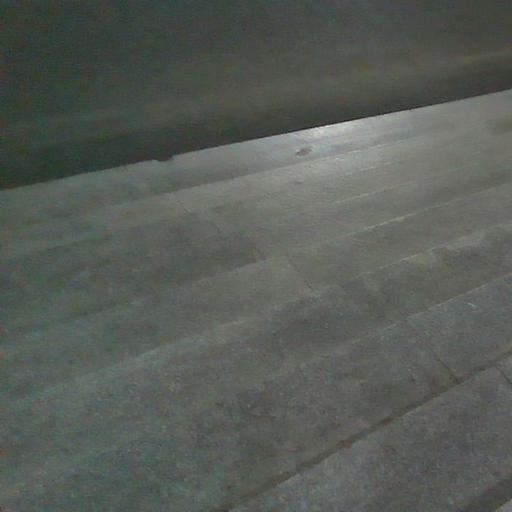stairs: (0, 91, 511, 511)
